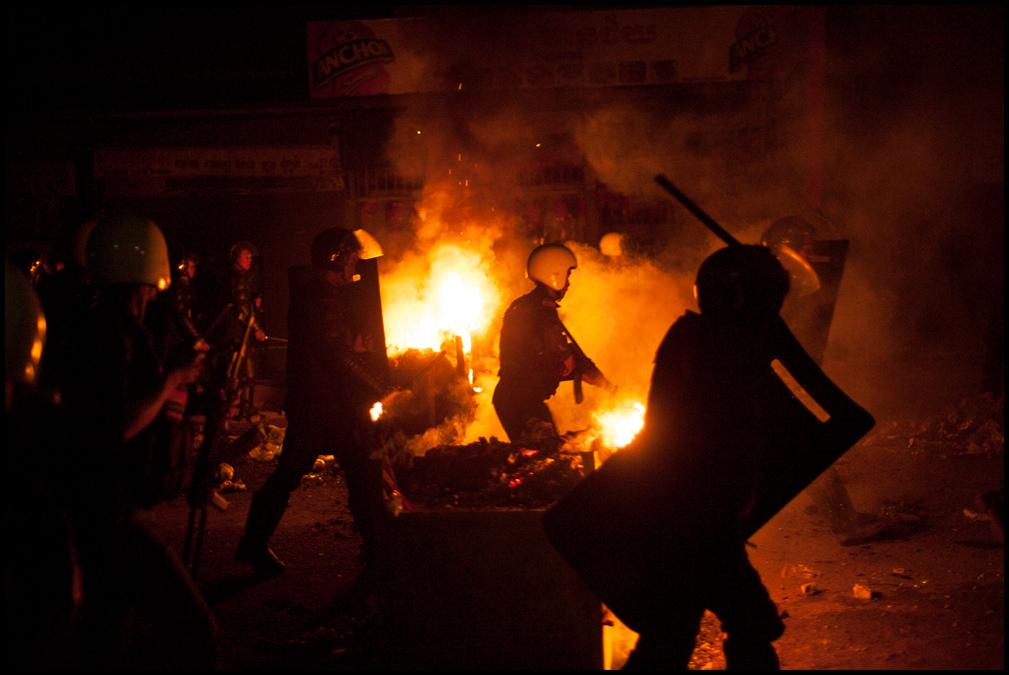fire: (388, 282, 482, 345), (585, 405, 653, 442)
